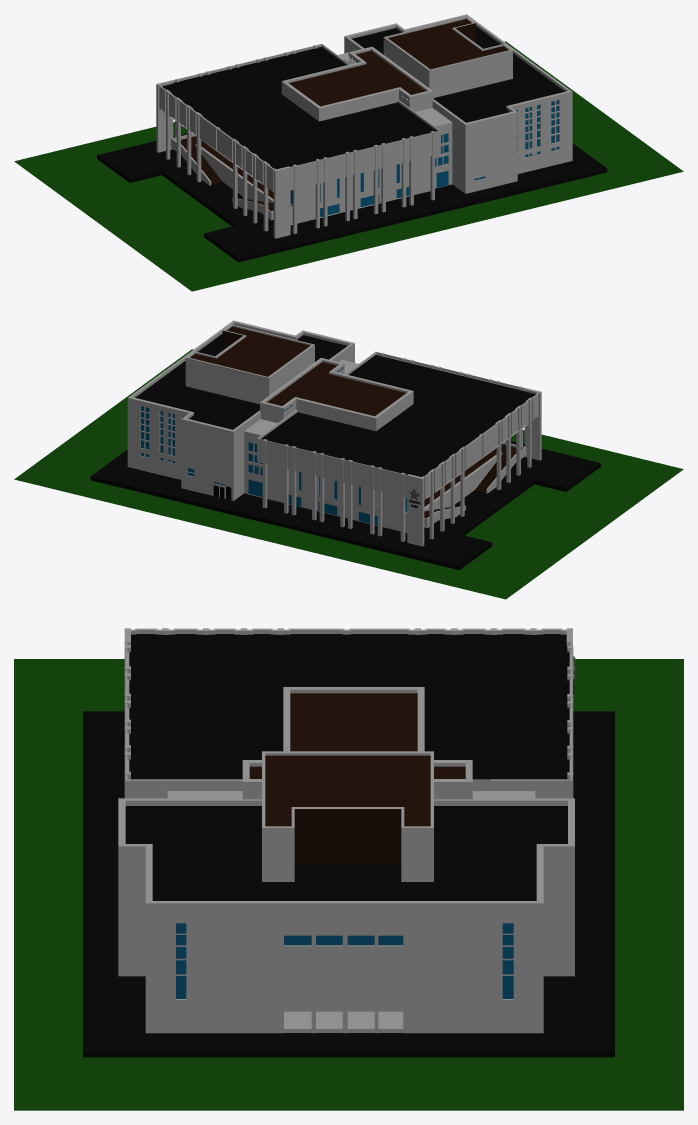
File: ТЕАТР ТЕАТР.fbx
The picture shows the model from 3 angles, top to bottom: view 1: azimuth 30°, elevation 25°; view 2: azimuth 150°, elevation 25°; view 3: azimuth 270°, elevation 25°; orthographic projection. The views are drawn at different scales.
Parts seen in each view (by area): view 1: Plane, Cube, Cube.034, Cube.011, Cube.035, Cube.036, Cube.002, Cube.001; view 2: Plane, Cube, Cube.034, Cube.011, Cube.035, Cube.036, Cube.001, Cube.002; view 3: Plane, Cube.034, Cube, Cube.011, Cube.036, Cube.035.
Boxes of the visible parts, x1,y1,x2,y2 form: Plane: (14, 41, 683, 291); Cube: (159, 44, 440, 224); Cube.034: (344, 14, 572, 193); Cube.011: (97, 133, 607, 262); Cube.035: (281, 46, 452, 188); Cube.036: (383, 16, 512, 97); Cube.002: (273, 166, 290, 238); Cube.001: (156, 80, 173, 152); Plane: (14, 349, 683, 599); Cube: (257, 351, 538, 533); Cube.034: (127, 320, 354, 500); Cube.011: (90, 441, 600, 570); Cube.035: (244, 358, 413, 497); Cube.036: (185, 324, 314, 404); Cube.001: (407, 474, 424, 546); Cube.002: (524, 388, 541, 460); Plane: (14, 659, 683, 1110); Cube.034: (118, 798, 574, 1033); Cube: (125, 628, 572, 798); Cube.011: (83, 711, 614, 1057); Cube.036: (262, 751, 433, 881); Cube.035: (167, 687, 535, 799).
Size of the model in its own units: 1629 by 355 by 1021.
